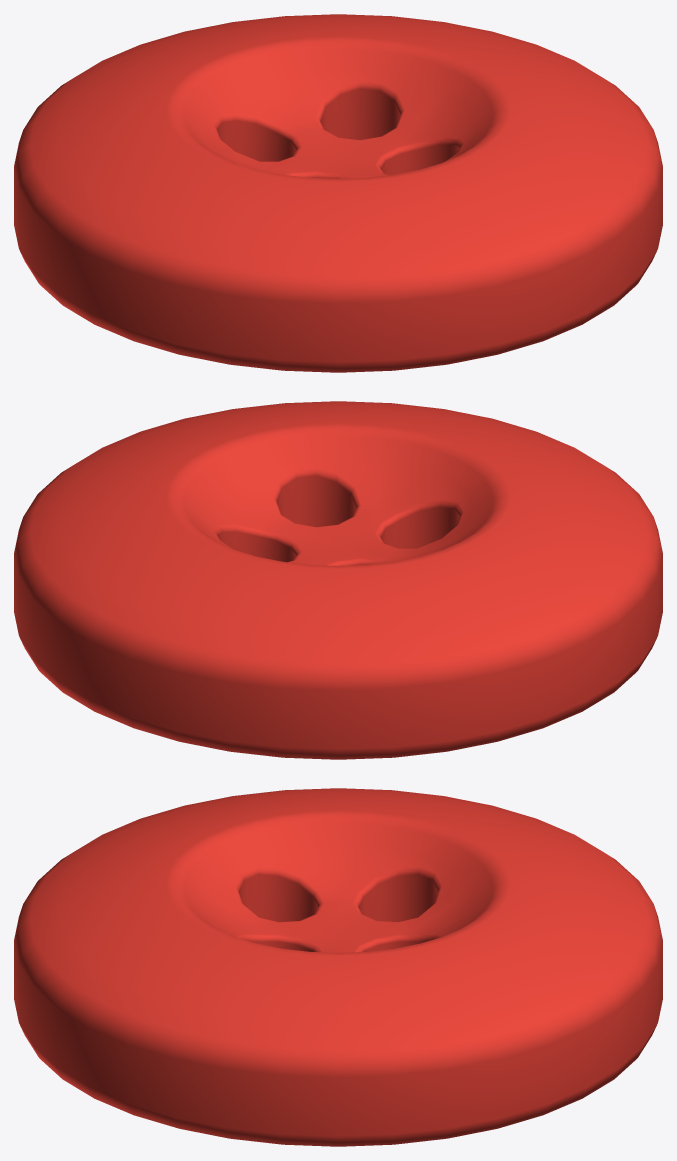
The picture shows the model from 3 angles, top to bottom: view 1: azimuth 30°, elevation 25°; view 2: azimuth 150°, elevation 25°; view 3: azimuth 270°, elevation 25°; orthographic projection.
Parts seen in each view (by area): view 1: HRB-2066; view 2: HRB-2066; view 3: HRB-2066.
Part boxes in pixels (x1=…): HRB-2066: x1=14, y1=14, x2=662, y2=372; HRB-2066: x1=14, y1=401, x2=662, y2=759; HRB-2066: x1=14, y1=788, x2=662, y2=1146.
Size of the model in its own units: 1.3 by 0.2968 by 1.3.
